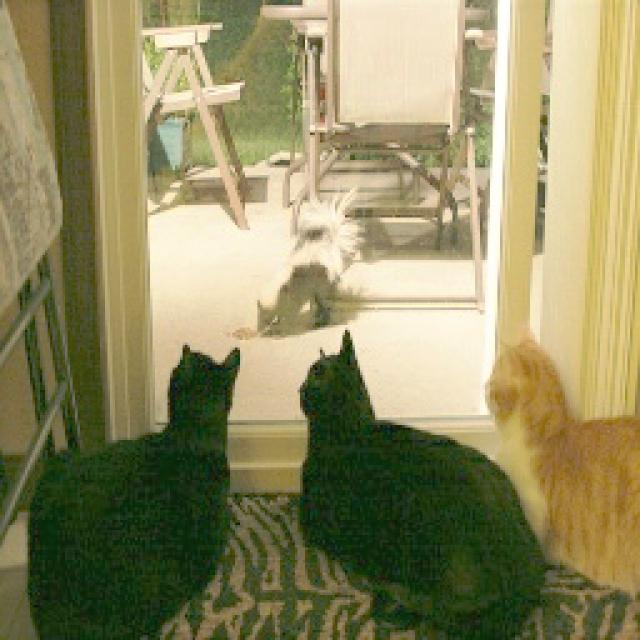cat: (267, 323, 533, 640), (5, 310, 252, 639), (482, 295, 640, 593)
